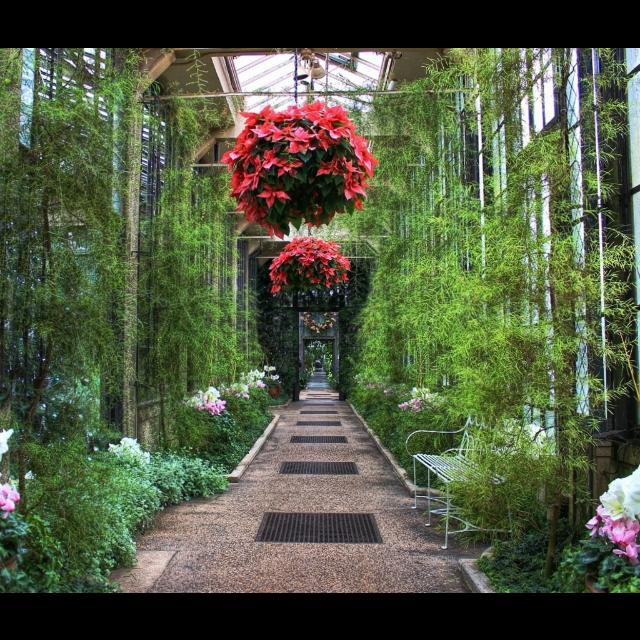Flower: (182, 361, 282, 417), (583, 468, 639, 564), (352, 373, 444, 413), (107, 435, 157, 467), (1, 484, 23, 514), (0, 427, 16, 467)
